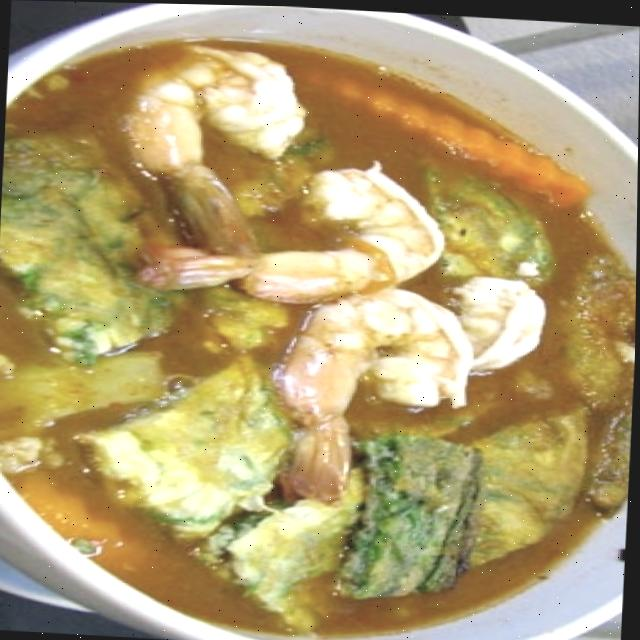汤锅炖物: (0, 21, 636, 640)
